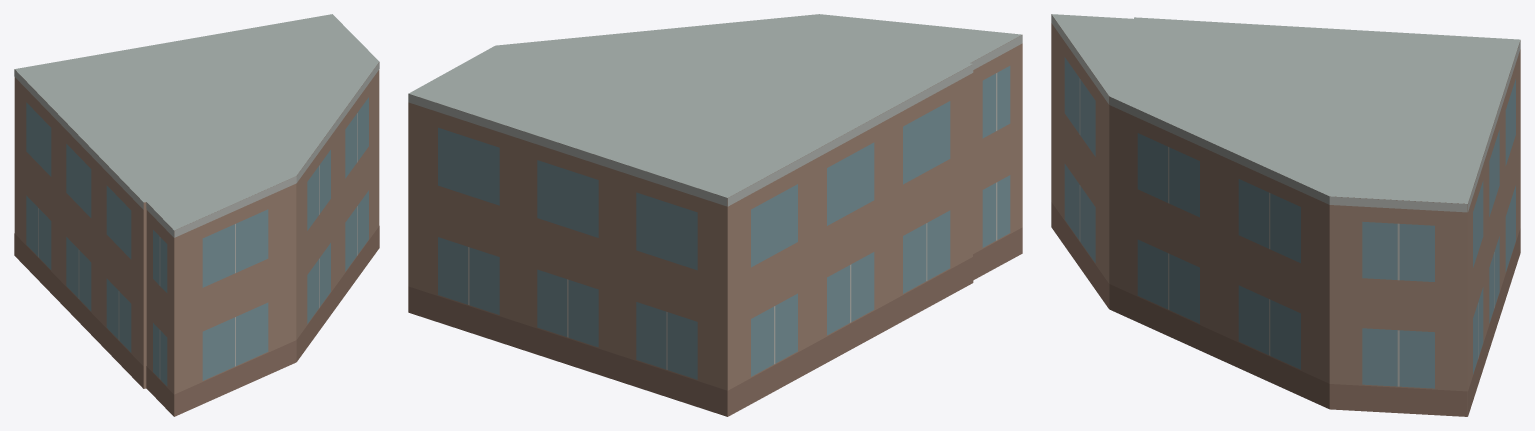
Rendered from survey-upis-32694730.glb.
The picture shows the model from 3 angles, left to right: view 1: azimuth 30°, elevation 25°; view 2: azimuth 150°, elevation 25°; view 3: azimuth 270°, elevation 25°; orthographic projection. The views are drawn at different scales.
Parts seen in each view (by area): view 1: survey-upis-32694730.tmp; view 2: survey-upis-32694730.tmp; view 3: survey-upis-32694730.tmp.
Part boxes in pixels (bbox=[...]): survey-upis-32694730.tmp: bbox=[14, 14, 379, 416]; survey-upis-32694730.tmp: bbox=[408, 14, 1022, 416]; survey-upis-32694730.tmp: bbox=[1051, 14, 1520, 416].
Bounding box in the file's own units: 11.68 × 6.1 × 12.19.
